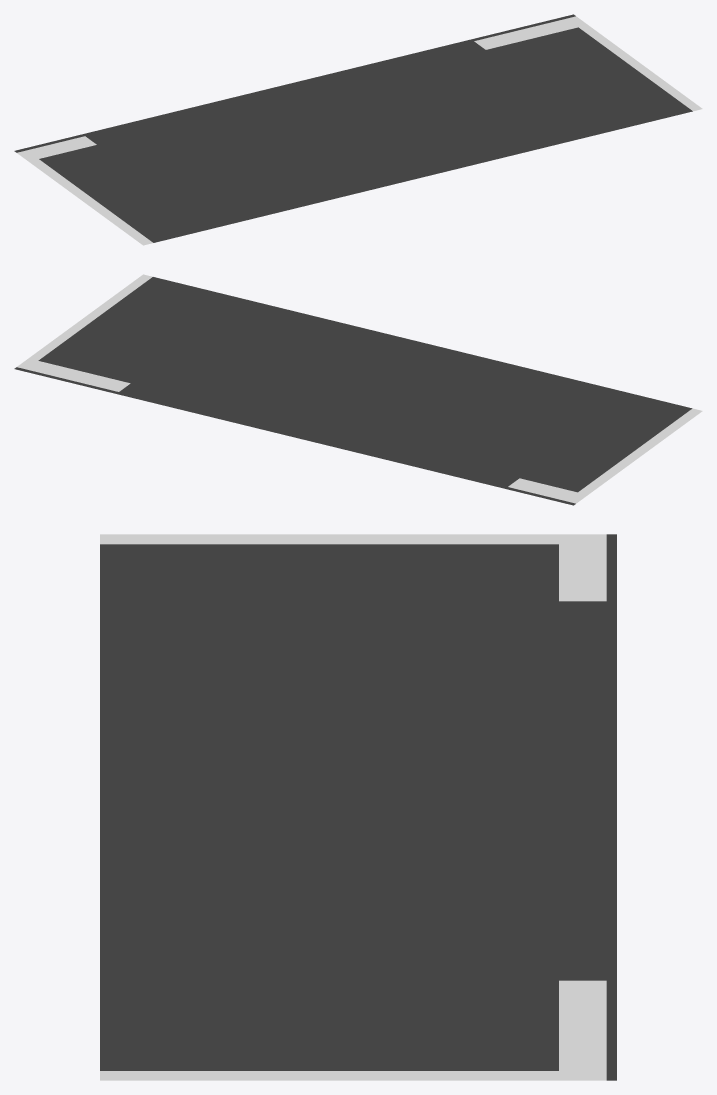
The model's file is Road Parking.fbx.
The picture shows the model from 3 angles, top to bottom: view 1: azimuth 30°, elevation 25°; view 2: azimuth 150°, elevation 25°; view 3: azimuth 270°, elevation 25°; orthographic projection. The views are drawn at different scales.
Parts seen in each view (by area): view 1: Road Parking.001; view 2: Road Parking.001; view 3: Road Parking.001.
Part boxes in pixels (x1=…): Road Parking.001: x1=14, y1=14, x2=702, y2=245; Road Parking.001: x1=14, y1=274, x2=702, y2=505; Road Parking.001: x1=100, y1=534, x2=616, y2=1080.
Size of the model in its own units: 688 by 275 by 0.000179.
